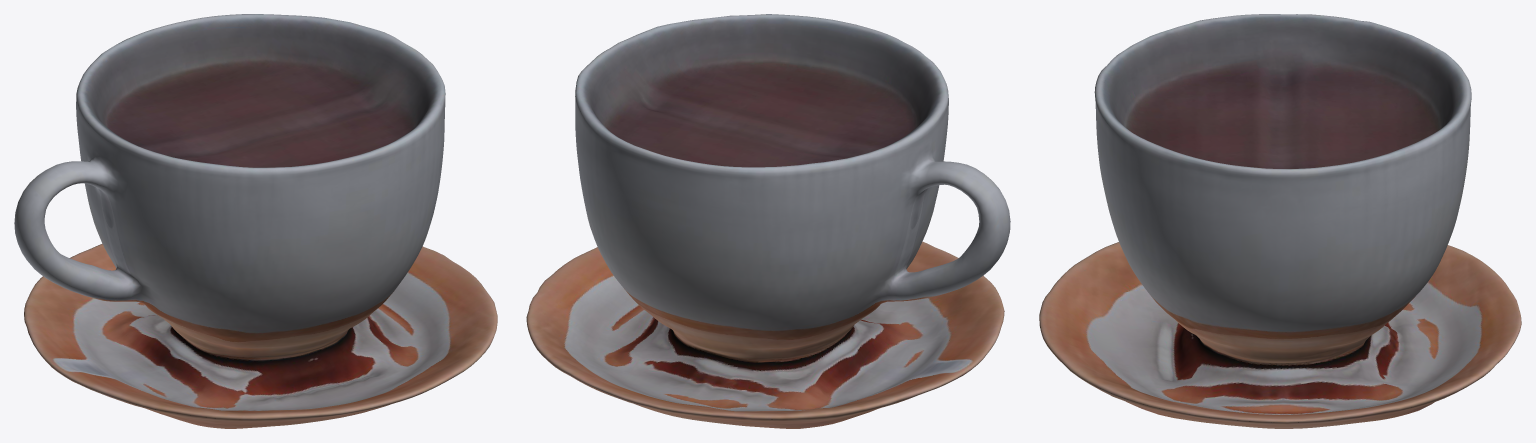
Rendered from 6f5724de332b_Tea__3d_asset_0_glb.fbx.
3 renders of one model, left to right at view 1: azimuth 30°, elevation 25°; view 2: azimuth 150°, elevation 25°; view 3: azimuth 270°, elevation 25°, orthographic.
Visible parts, largest first — view 1: mesh; view 2: mesh; view 3: mesh.
Boxes of the visible parts, left/top/right/bottom form: mesh: left=14, top=14, right=497, bottom=428; mesh: left=526, top=14, right=1010, bottom=428; mesh: left=1039, top=14, right=1521, bottom=428.
Bounding box in the file's own units: 99.95 × 59.06 × 91.87.
